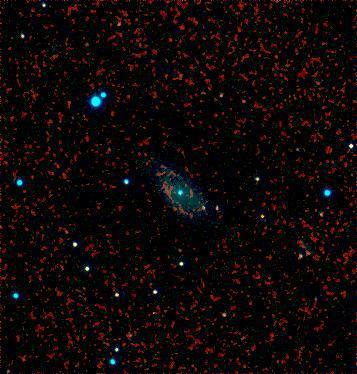star: (245, 199, 275, 229)
